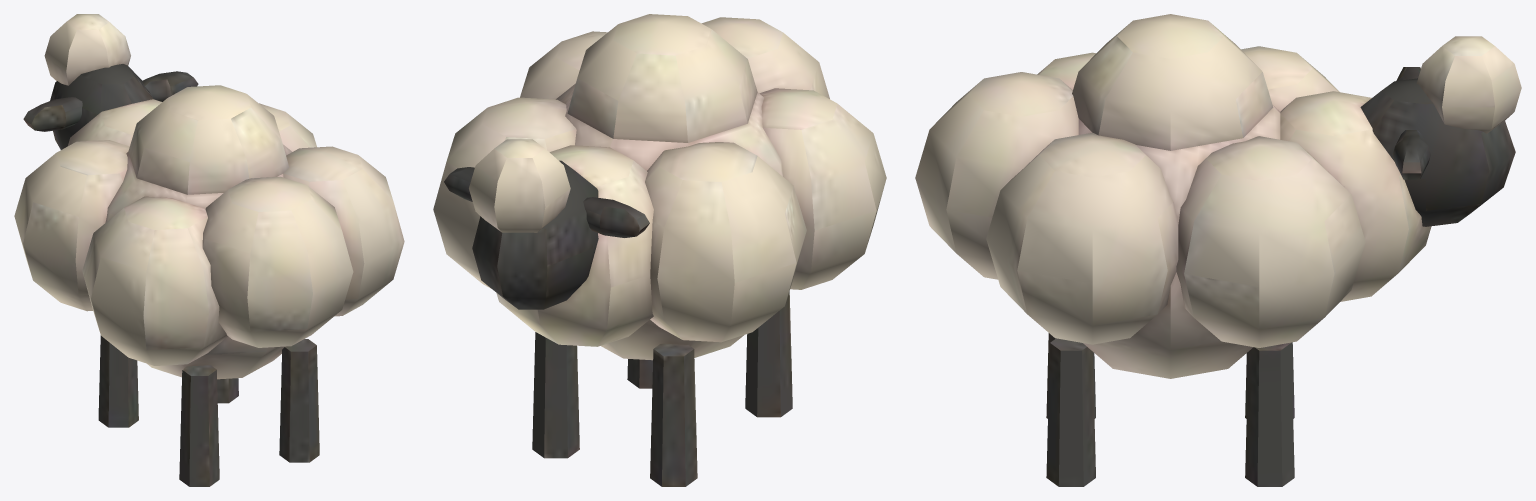
Rendered from sheep.glb.
3 views of the same model, side by side, from view 1: azimuth 30°, elevation 25°; view 2: azimuth 150°, elevation 25°; view 3: azimuth 270°, elevation 25° (orthographic). The views are drawn at different scales.
Visible parts, largest first — view 1: main; view 2: main; view 3: main.
Part boxes in pixels (x1=…): main: x1=14, y1=14, x2=404, y2=486; main: x1=433, y1=14, x2=886, y2=486; main: x1=915, y1=14, x2=1521, y2=486.
Bounding box in the file's own units: 1.22 × 1.32 × 1.71.
Materials: 1 (1 with a texture image).
